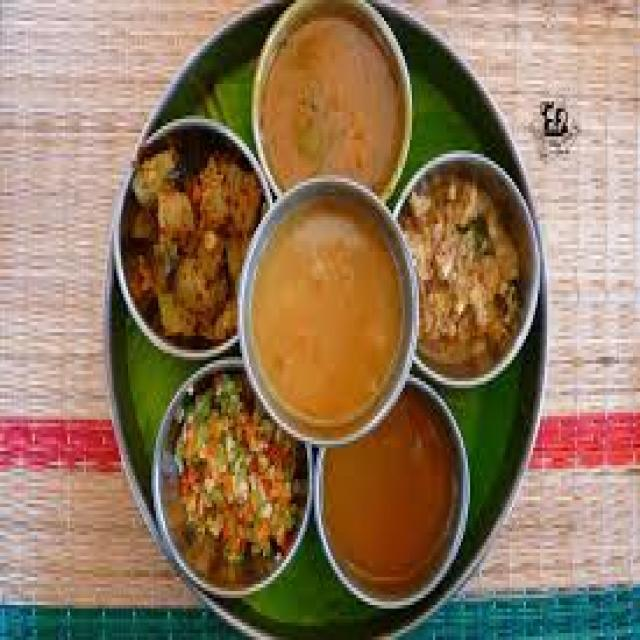dal: (254, 6, 407, 203)
sambar-rasam: (315, 399, 464, 589)
sweet: (412, 171, 538, 373)
